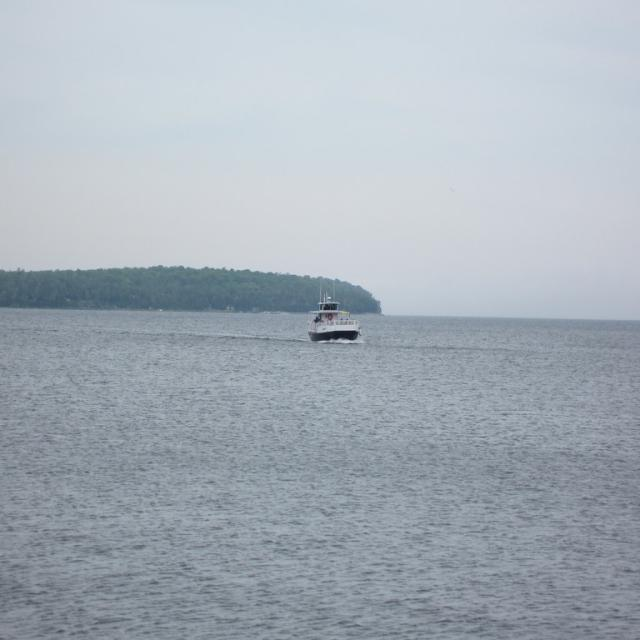houseboat: (302, 291, 362, 344)
